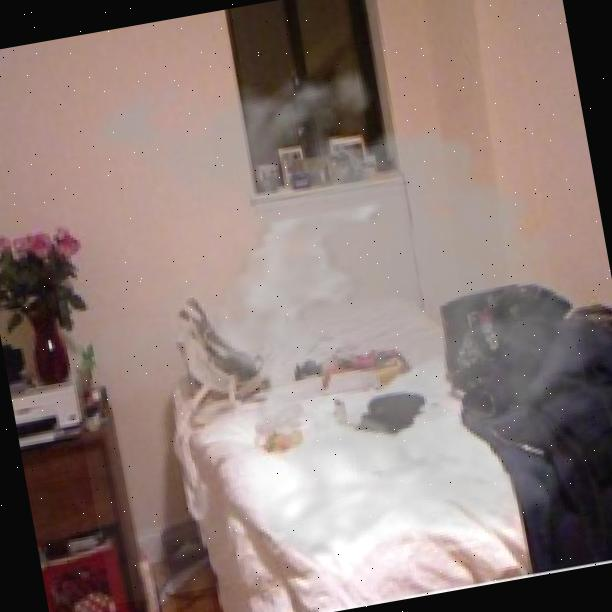smoke: (22, 0, 612, 605)
